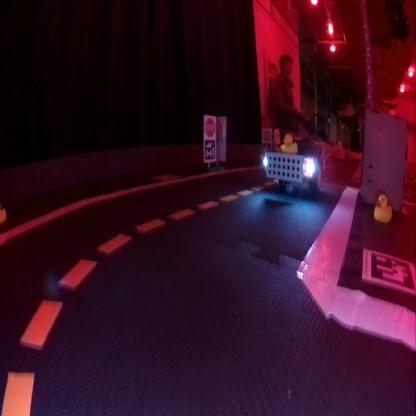Duckie: (375, 193, 393, 222), (280, 132, 298, 152)
Duckiebot: (262, 147, 322, 191)
QR code: (360, 246, 415, 293), (205, 140, 216, 160)
Stop sign: (204, 115, 216, 137)
